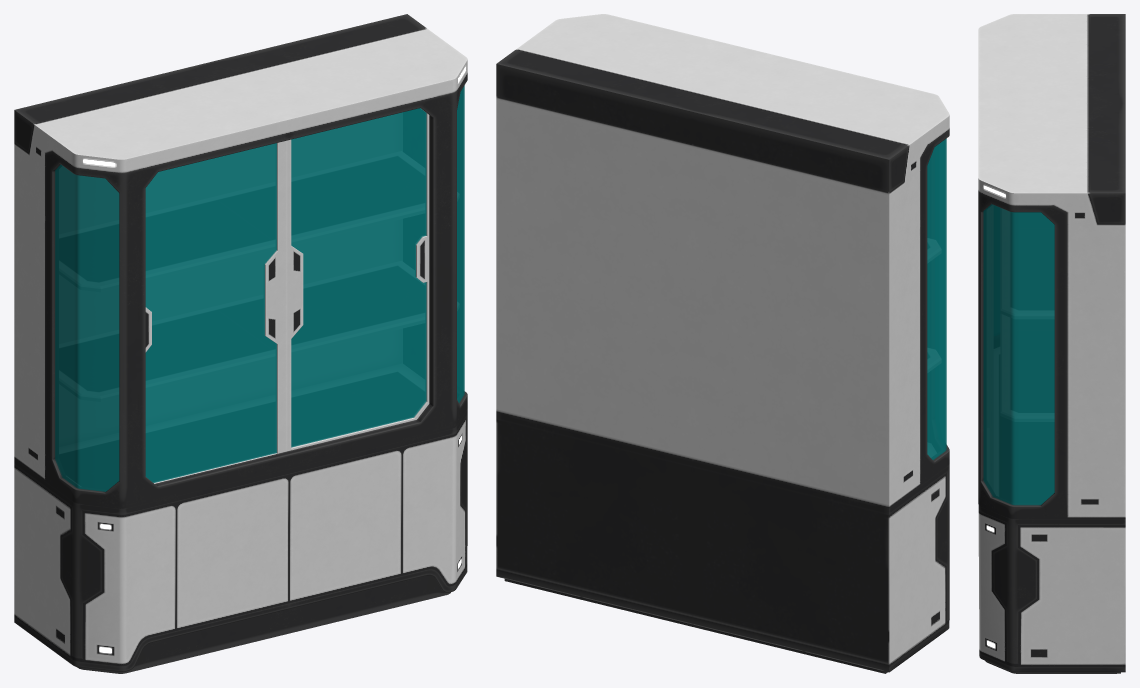
The model's file is LabStorageCabinet01_1.FBX.
The picture shows the model from 3 angles, left to right: view 1: azimuth 30°, elevation 25°; view 2: azimuth 150°, elevation 25°; view 3: azimuth 270°, elevation 25°; orthographic projection. The views are drawn at different scales.
Visible parts, largest first — view 1: LabStorageCabinet01_1, DoorR, DoorL; view 2: LabStorageCabinet01_1; view 3: LabStorageCabinet01_1.
Part boxes in pixels (<box>): LabStorageCabinet01_1: <box>14,14,467,673</box>; DoorR: <box>287,108,429,451</box>; DoorL: <box>145,140,287,483</box>; LabStorageCabinet01_1: <box>496,14,949,673</box>; LabStorageCabinet01_1: <box>978,14,1125,673</box>.
Size of what is drawn, in the model's own units: 1.87 by 2.36 by 0.6497.
